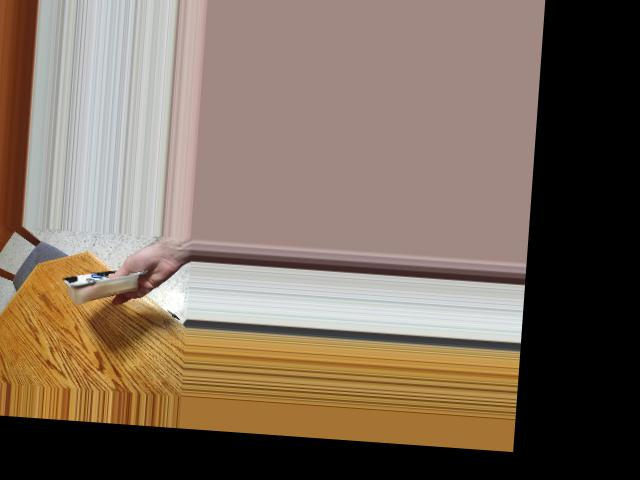cheese: (64, 248, 141, 316)
